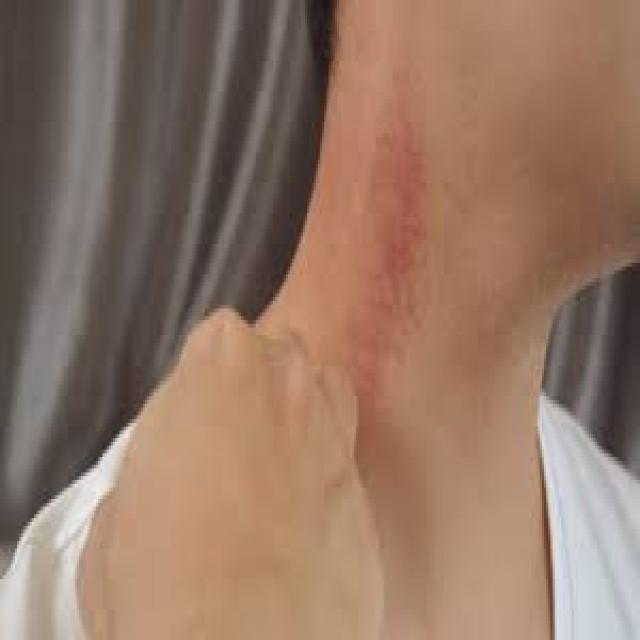Acanthosis Nigricans: (304, 77, 488, 485)
